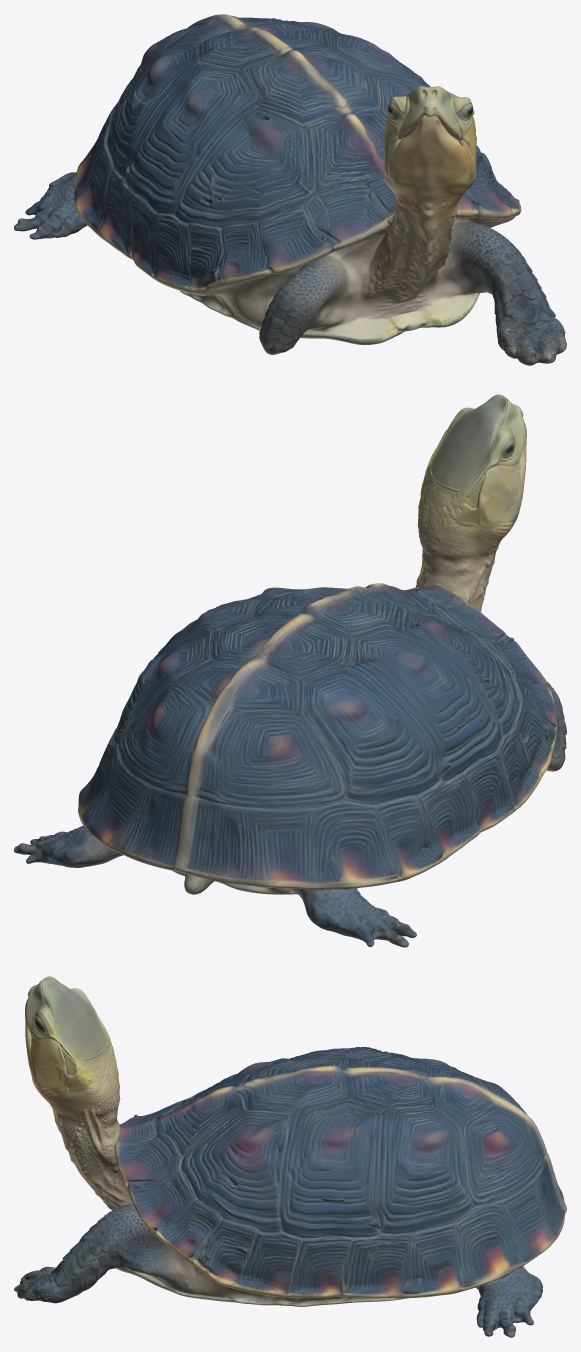
File: turtle.glb
The picture shows the model from 3 angles, top to bottom: view 1: azimuth 30°, elevation 25°; view 2: azimuth 150°, elevation 25°; view 3: azimuth 270°, elevation 25°; orthographic projection. The views are drawn at different scales.
Parts seen in each view (by area): view 1: tripo_node_7d0667b0-c482-4307-8073-f33d92bfe29c; view 2: tripo_node_7d0667b0-c482-4307-8073-f33d92bfe29c; view 3: tripo_node_7d0667b0-c482-4307-8073-f33d92bfe29c.
Part boxes in pixels (<box>): tripo_node_7d0667b0-c482-4307-8073-f33d92bfe29c: <box>14,14,566,365</box>; tripo_node_7d0667b0-c482-4307-8073-f33d92bfe29c: <box>14,394,566,947</box>; tripo_node_7d0667b0-c482-4307-8073-f33d92bfe29c: <box>14,976,566,1337</box>.
Bounding box in the file's own units: 15.3 × 11.64 × 21.56.
Materials: 1 (1 with a texture image).
